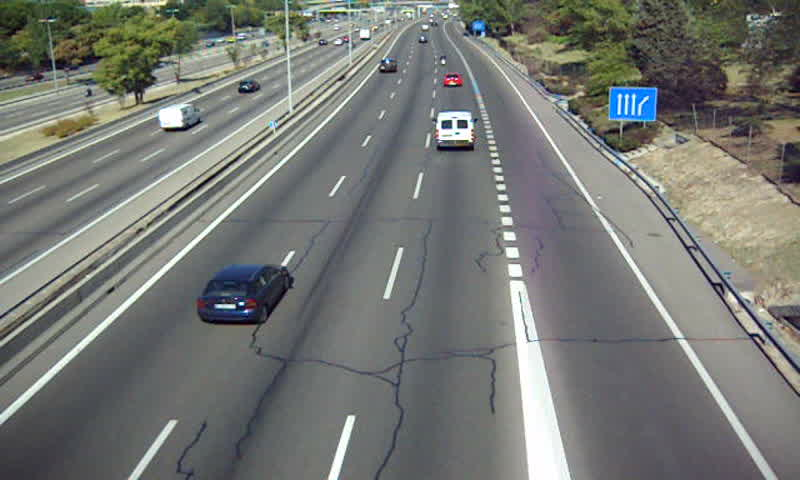car: (196, 263, 292, 322), (377, 59, 397, 75), (443, 74, 464, 88)
motorcycle: (437, 54, 449, 65)
van: (435, 112, 474, 148)
